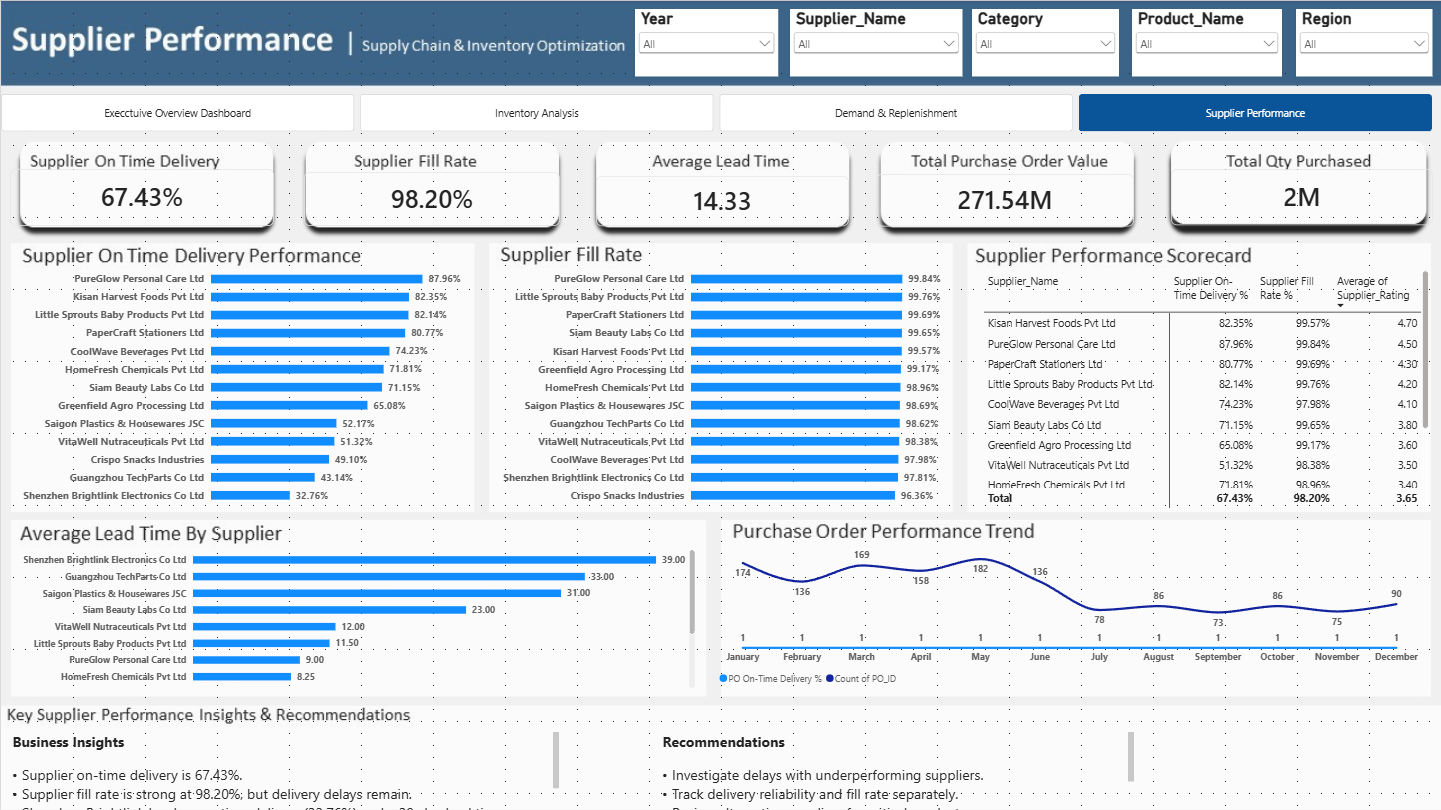

Layout of this report page (visuals, bound fields, positions):
{"tool":"powerbi","page":{"name":"Supplier Performance","canvas":[1920,1080],"ordinal":3},"visuals":[{"type":"card","fields":{"Values":["Suppliers.Supplier On-Time Delivery %"]},"box":[12,224,352,76],"z":0},{"type":"card","fields":{"Values":["Suppliers.Supplier Fill Rate %"]},"box":[404,228,341.3,72],"z":1000},{"type":"card","fields":{"Values":["Avg(Products.Lead_Time_Days)"]},"box":[793.3,233.3,337.3,66.7],"z":2000},{"type":"card","fields":{"Values":["Sales_Demand.Total Purchase Order Value"]},"box":[1167.3,231,343.7,69.6],"z":3000},{"type":"clusteredBarChart","fields":{"Category":["Suppliers.Supplier_Name"],"Y":["Suppliers.Supplier On-Time Delivery %"]},"box":[12.5,333.9,617.7,357.6],"z":4000},{"type":"clusteredBarChart","fields":{"Category":["Suppliers.Supplier_Name"],"Y":["Suppliers.Supplier Fill Rate %"]},"box":[652.5,333.9,617.7,357.6],"z":5000},{"type":"pivotTable","fields":{"Rows":["Suppliers.Supplier_Name"],"Values":["Suppliers.Supplier On-Time Delivery %","Suppliers.Supplier Fill Rate %","Avg(Suppliers.Supplier_Rating)"]},"box":[1295.3,345,625.3,346.7],"z":6000},{"type":"clusteredBarChart","fields":{"Category":["Suppliers.Supplier_Name"],"Y":["Avg(Products.Lead_Time_Days)"]},"box":[12.5,709.6,929.4,222.6],"z":7000},{"type":"lineChart","fields":{"Category":["Purchase_Orders.PO_Date.Variation.Date Hierarchy.Month"],"Y":["Purchase_Orders.PO On-Time Delivery %","Count(Purchase_Orders.PO_ID)"]},"box":[941.9,709.6,967,222.6],"z":8000},{"type":"pageNavigator","box":[0,123.8,1908.9,50.1],"z":9000},{"type":"card","fields":{"Values":["Sum(Purchase_Orders.Quantity_Received)"]},"box":[1559.7,224,349.2,75.1],"z":10000},{"type":"textbox","box":[0,975.3,744.3,104.3],"z":10001},{"type":"textbox","box":[866.8,975.3,644.2,104.3],"z":10002},{"type":"slicer","fields":{"Values":["Sales_Demand.Order_Date.Variation.Date Hierarchy.Year"]},"box":[845.9,11.1,190.6,90.4],"z":10003},{"type":"slicer","fields":{"Values":["Products.Category"]},"box":[1295.3,11.1,196.2,90.4],"z":10004},{"type":"slicer","fields":{"Values":["Products.Product_Name"]},"box":[1508.2,11.1,200.3,90.4],"z":10005},{"type":"slicer","fields":{"Values":["Warehouses.Region"]},"box":[1726.6,11.1,182.3,90.4],"z":10006},{"type":"slicer","fields":{"Values":["Suppliers.Supplier_Name"]},"box":[1051.8,11.1,229.6,90.4],"z":10007}]}

Visuals, with their boxes in screenshot pixels (x1, y1, x2, y2), scaled from the page's 1920x1080 canvas onto the 1441x810 screenshot:
card - Suppliers.Supplier On-Time Delivery %: x1=9 y1=168 x2=273 y2=225
card - Suppliers.Supplier Fill Rate %: x1=303 y1=171 x2=559 y2=225
card - Avg(Products.Lead_Time_Days): x1=595 y1=175 x2=849 y2=225
card - Sales_Demand.Total Purchase Order Value: x1=876 y1=173 x2=1134 y2=225
clusteredBarChart - Suppliers.Supplier_Name x Suppliers.Supplier On-Time Delivery %: x1=9 y1=250 x2=473 y2=519
clusteredBarChart - Suppliers.Supplier_Name x Suppliers.Supplier Fill Rate %: x1=490 y1=250 x2=953 y2=519
pivotTable - Suppliers.Supplier_Name x Suppliers.Supplier On-Time Delivery %: x1=972 y1=259 x2=1440 y2=519
clusteredBarChart - Suppliers.Supplier_Name x Avg(Products.Lead_Time_Days): x1=9 y1=532 x2=707 y2=699
lineChart - Purchase_Orders.PO_Date.Variation.Date Hierarchy.Month x Purchase_Orders.PO On-Time Delivery %: x1=707 y1=532 x2=1433 y2=699
pageNavigator: x1=0 y1=93 x2=1433 y2=130
card - Sum(Purchase_Orders.Quantity_Received): x1=1171 y1=168 x2=1433 y2=224
textbox: x1=0 y1=731 x2=559 y2=809
textbox: x1=651 y1=731 x2=1134 y2=809
slicer - Sales_Demand.Order_Date.Variation.Date Hierarchy.Year: x1=635 y1=8 x2=778 y2=76
slicer - Products.Category: x1=972 y1=8 x2=1119 y2=76
slicer - Products.Product_Name: x1=1132 y1=8 x2=1282 y2=76
slicer - Warehouses.Region: x1=1296 y1=8 x2=1433 y2=76
slicer - Suppliers.Supplier_Name: x1=789 y1=8 x2=962 y2=76
